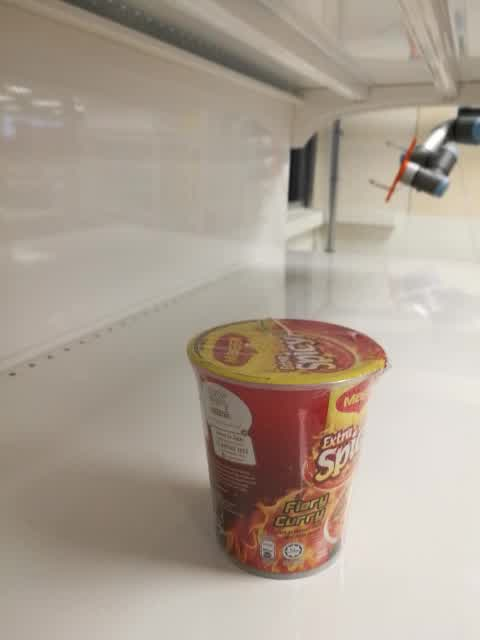maggi: (186, 318, 391, 580)
